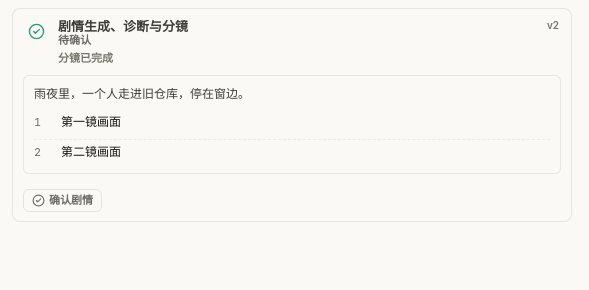
Test case: AgentTaskCard › edits one outline line in place and saves the draft with the current version
This screenshot has width=589, height=290.
Click the button with aria-label "编辑第 2 镜画面": (91, 151) [61,143,543,161]
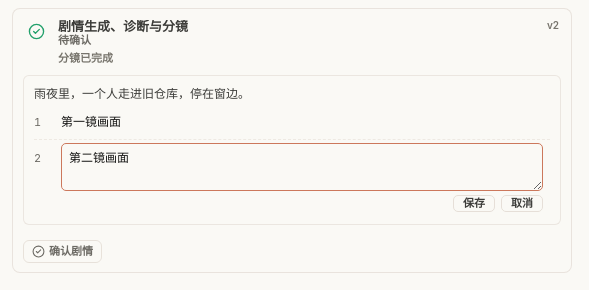
Replace the text in the text box named "编辑第 2 镜画面" with "改过之后的第二镜": (302, 167) [61,143,543,191]
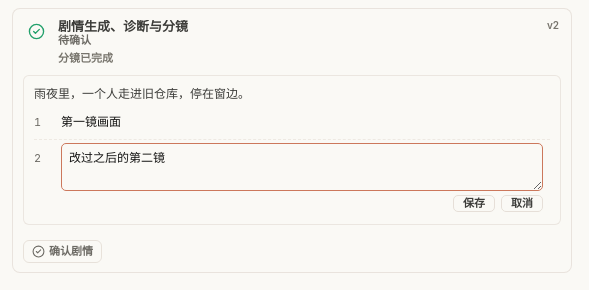
Click the button "保存": (474, 203) [453,195,495,212]
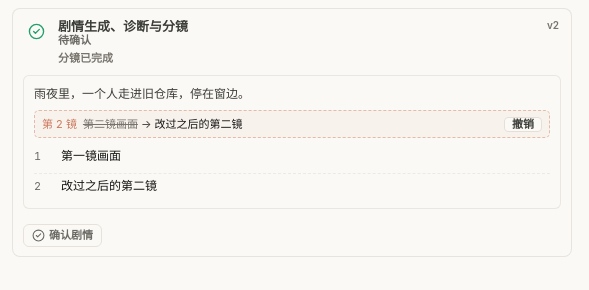
Expected: the button "第一镜画面" is shown, [61,148,543,166]
Expected: the text "改过之后的第二镜" is shown, [155,117,243,131]
